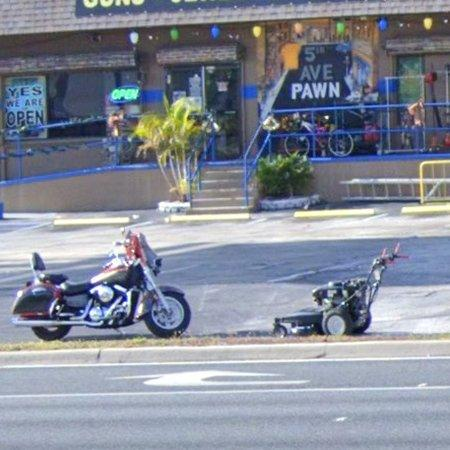motorcycles: (12, 231, 191, 340)
